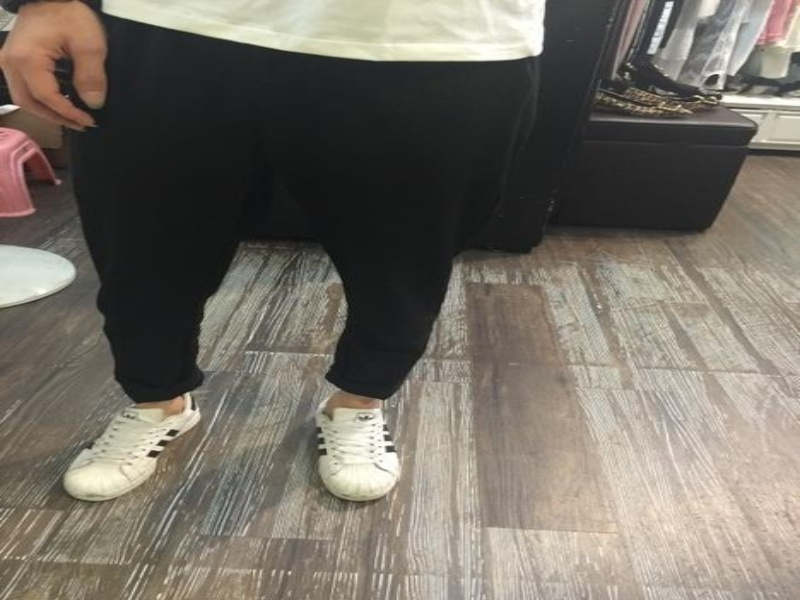short_sleeved_shirt: (99, 0, 547, 62)
trousers: (65, 3, 544, 406)
